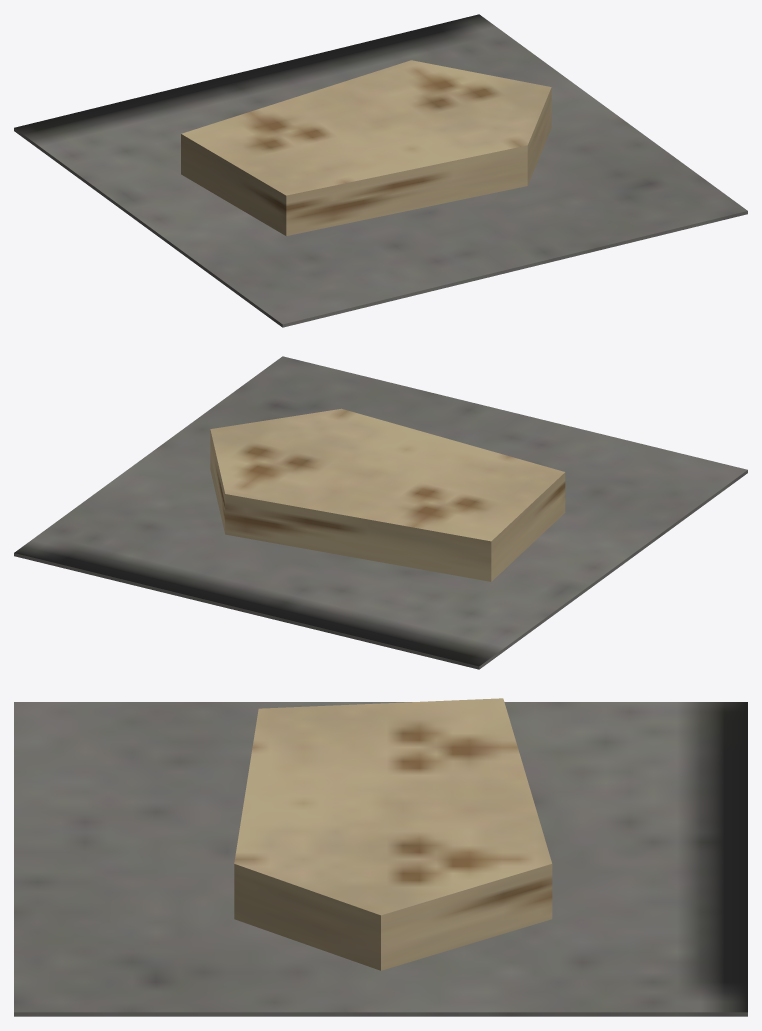
Rendered from steak.fbx.
3 renders of one model, top to bottom at view 1: azimuth 30°, elevation 25°; view 2: azimuth 150°, elevation 25°; view 3: azimuth 270°, elevation 25°, orthographic. The views are drawn at different scales.
Visible parts, largest first — view 1: steak; view 2: steak; view 3: steak.
Part boxes in pixels (x1,y1,x2,y2): steak: [14, 14, 747, 327]; steak: [14, 356, 747, 669]; steak: [14, 698, 747, 1016].
Bounding box in the file's own units: 0.3 × 0.027 × 0.3.
